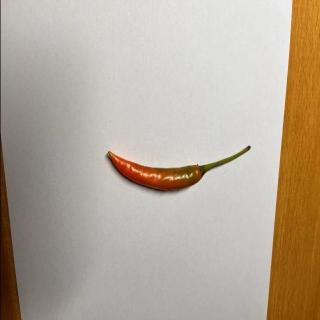Cabai Merah: (108, 146, 252, 192)
